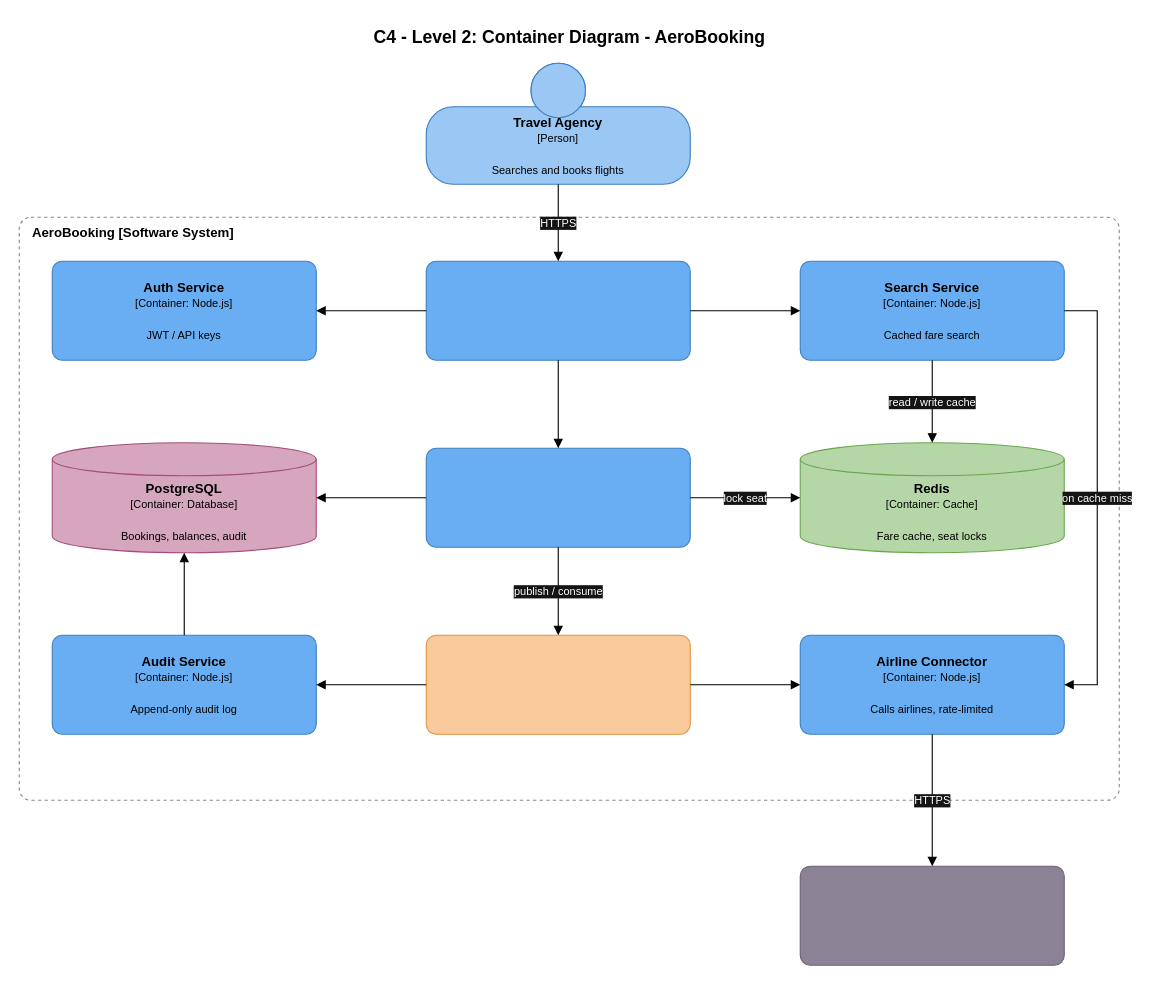
Image size: 1152x985. Some labels were removed from this diagram. The shapes that lost their labels are listed below. From the top down, each one's centre as x and y in pixels, then its label:
At pixel 557 310: "API Gateway [Container: Kong] Auth, rate limit, idempotency".
At pixel 557 497: "Booking Service [Container: Node.js] Purchase saga + compensation".
At pixel 557 684: "RabbitMQ [Container: Message broker] Saga commands and events".
At pixel 931 915: "Airline APIs [External Software System] Source of truth for seats".
